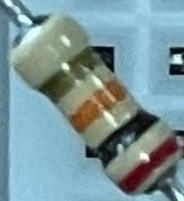Black: (94, 107, 163, 171)
Orange: (67, 74, 131, 135)
Red: (117, 132, 181, 195)
Side-Gold: (36, 43, 104, 105)
